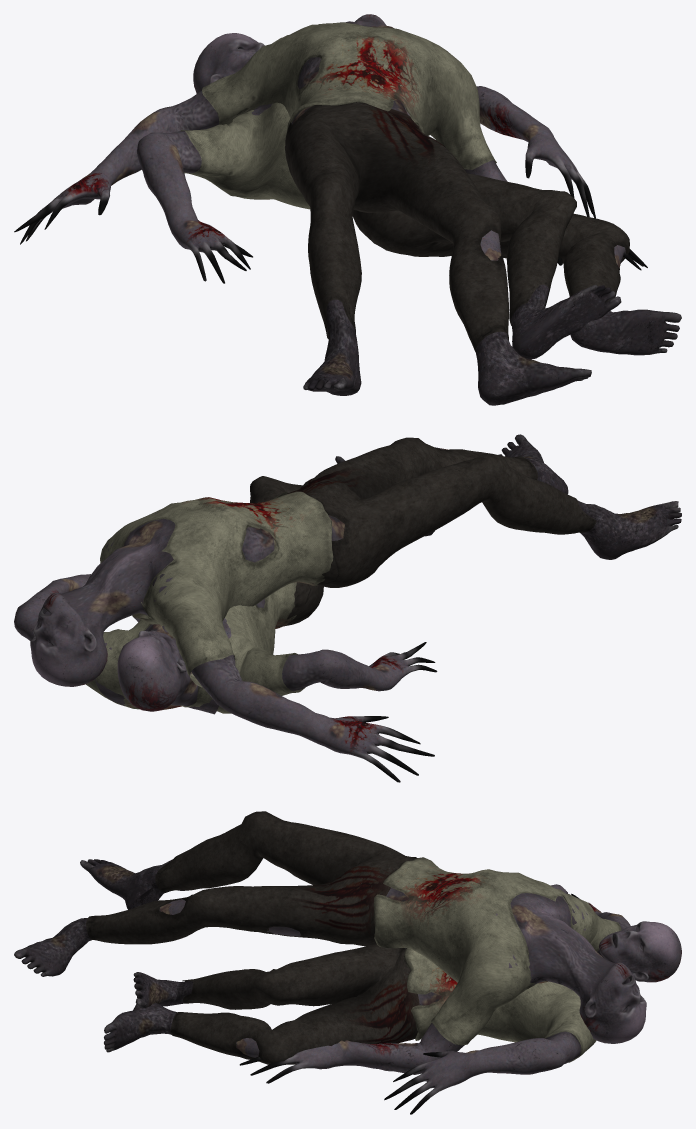
Rendered from TwoEnemyPile.fbx.
The picture shows the model from 3 angles, top to bottom: view 1: azimuth 30°, elevation 25°; view 2: azimuth 150°, elevation 25°; view 3: azimuth 270°, elevation 25°; orthographic projection. The views are drawn at different scales.
Parts seen in each view (by area): view 1: EnemyPile3; view 2: EnemyPile3; view 3: EnemyPile3.
Part boxes in pixels (x1,y1,x2,y2): EnemyPile3: (14, 14, 681, 405); EnemyPile3: (14, 434, 681, 782); EnemyPile3: (14, 811, 681, 1114).
Size of the model in its own units: 135 by 51.76 by 194.
